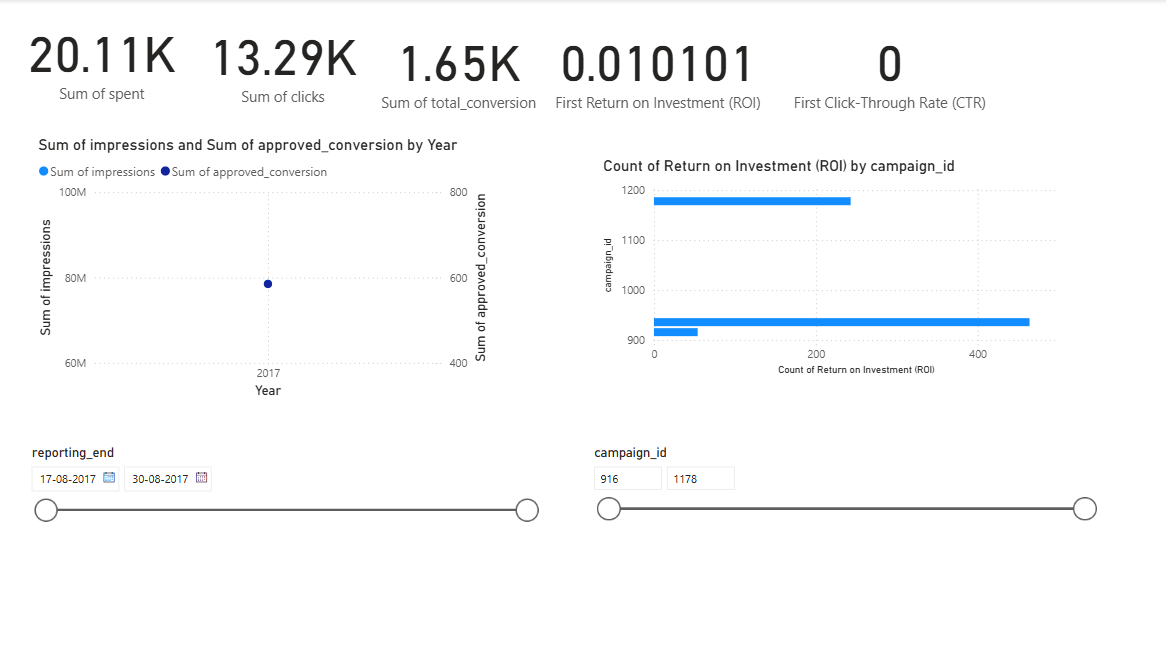

Layout of this report page (visuals, bound fields, positions):
{"tool":"powerbi","page":{"name":"Page 1","canvas":[1280,720],"ordinal":0},"visuals":[{"type":"card","fields":{"Values":["Sum(data.spent)"]},"box":[10.2,0,204.5,129.5],"z":0},{"type":"card","fields":{"Values":["Sum(data.clicks)"]},"box":[214.1,6.9,193.5,122.1],"z":1},{"type":"card","fields":{"Values":["Sum(data.total_conversion)"]},"box":[407.5,0,192.1,149.6],"z":2},{"type":"card","fields":{"Values":["Min(data.Return on Investment (ROI))"]},"box":[599.7,13.7,245.6,122.1],"z":3},{"type":"card","fields":{"Values":["Min(data.Click-Through Rate (CTR))"]},"box":[859,19.2,236,111.1],"z":4},{"type":"lineChart","fields":{"Category":["data.reporting_end.Variation.Date Hierarchy.Year","data.reporting_end.Variation.Date Hierarchy.Quarter","data.reporting_end.Variation.Date Hierarchy.Month","data.reporting_end.Variation.Date Hierarchy.Day"],"Y":["Sum(data.impressions)"],"Y2":["Sum(data.approved_conversion)"]},"box":[37,149.6,503.6,293.7],"z":5},{"type":"clusteredBarChart","fields":{"Category":["data.campaign_id"],"Y":["CountNonNull(data.Return on Investment (ROI))"]},"box":[657.3,172.9,520.1,245.6],"z":6},{"type":"slicer","fields":{"Values":["data.reporting_end"]},"box":[22,484.4,577.7,220.9],"z":7},{"type":"slicer","fields":{"Values":["data.campaign_id"]},"box":[639.5,484.4,572.2,160.5],"z":8}]}

Visuals, with their boxes in screenshot pixels (x1, y1, x2, y2), scaled from the page's 1280x720 canvas onto the 1166x654 screenshot:
card - Sum(data.spent): [x1=9, y1=0, x2=196, y2=118]
card - Sum(data.clicks): [x1=195, y1=6, x2=371, y2=117]
card - Sum(data.total_conversion): [x1=371, y1=0, x2=546, y2=136]
card - Min(data.Return on Investment (ROI)): [x1=546, y1=12, x2=770, y2=123]
card - Min(data.Click-Through Rate (CTR)): [x1=782, y1=17, x2=997, y2=118]
lineChart - data.reporting_end.Variation.Date Hierarchy.Year x data.reporting_end.Variation.Date Hierarchy.Quarter: [x1=34, y1=136, x2=492, y2=403]
clusteredBarChart - data.campaign_id x CountNonNull(data.Return on Investment (ROI)): [x1=599, y1=157, x2=1073, y2=380]
slicer - data.reporting_end: [x1=20, y1=440, x2=546, y2=641]
slicer - data.campaign_id: [x1=583, y1=440, x2=1104, y2=586]
